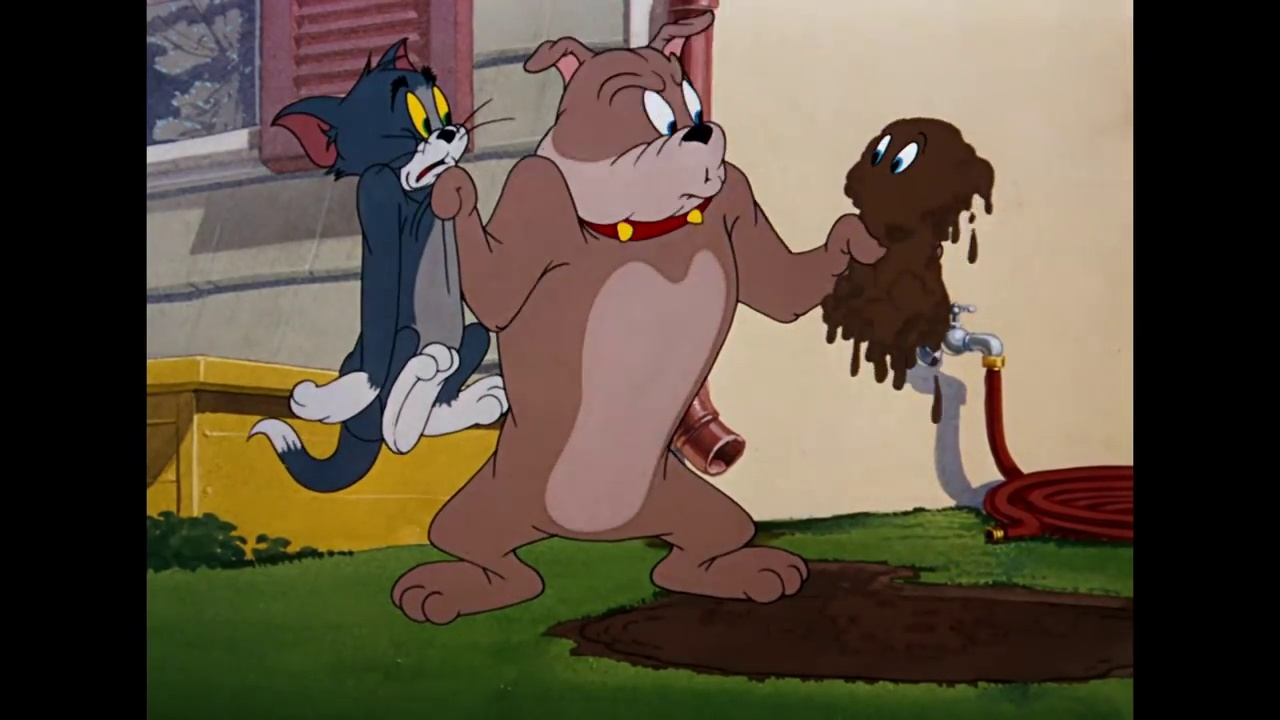spike: (516, 12, 731, 252)
tom: (271, 37, 473, 191)
